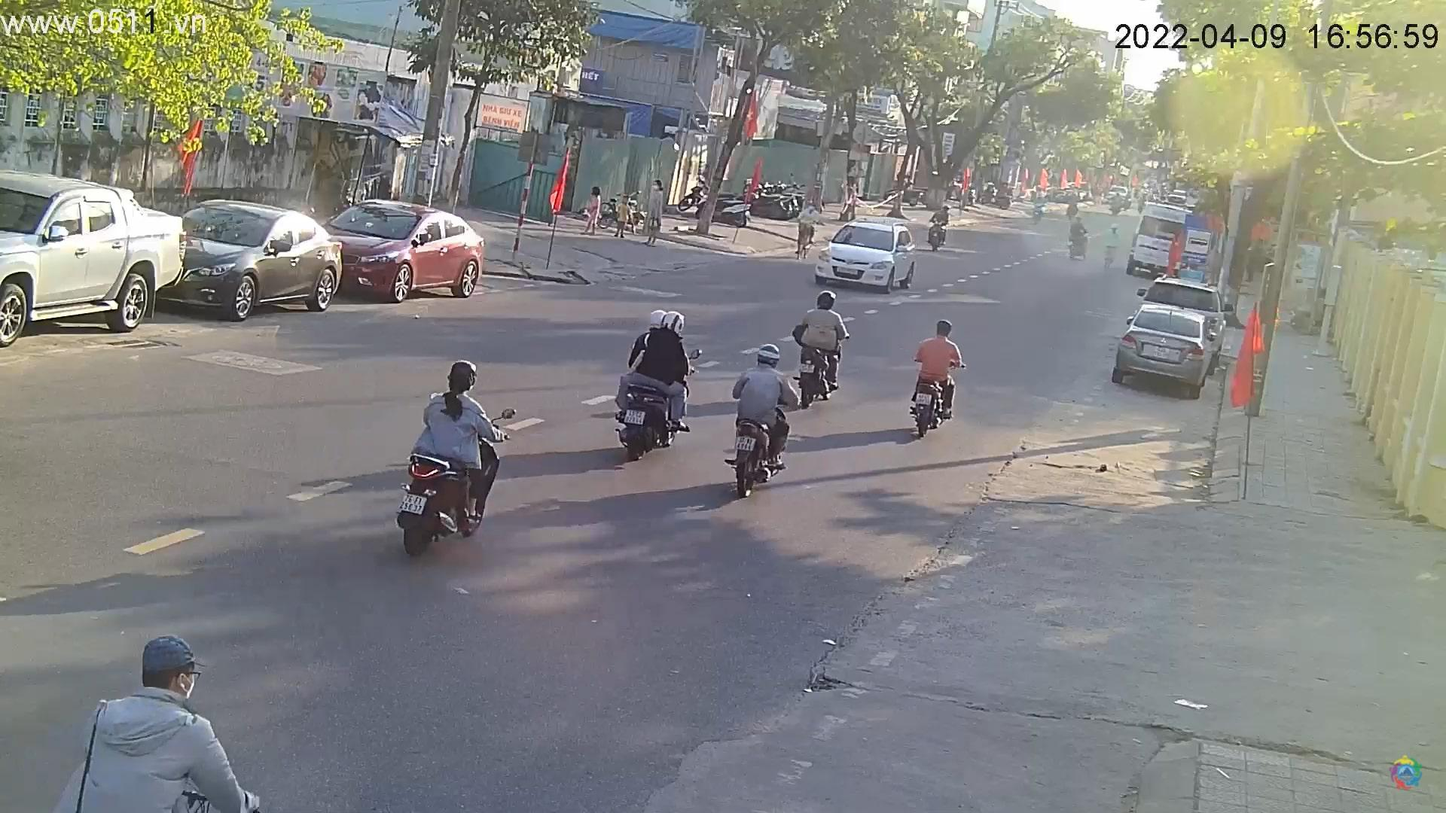car: (2, 171, 188, 350), (165, 201, 352, 322), (321, 198, 489, 306), (1112, 279, 1241, 401), (819, 222, 921, 291)
motorbike: (392, 397, 512, 555), (605, 337, 697, 457), (725, 370, 801, 498), (901, 345, 965, 442)
